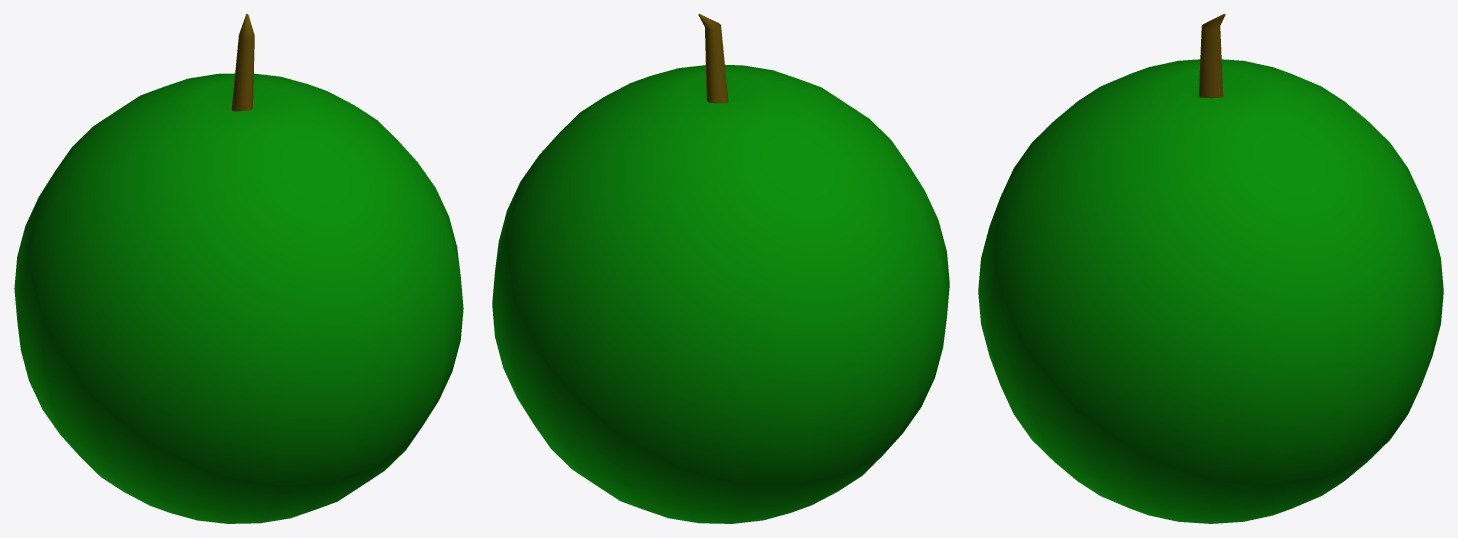
The model's file is Applemodel.fbx.
3 renders of one model, left to right at view 1: azimuth 30°, elevation 25°; view 2: azimuth 150°, elevation 25°; view 3: azimuth 270°, elevation 25°, orthographic. The views are drawn at different scales.
Visible parts, largest first — view 1: pSphere1, pCylinder1; view 2: pSphere1, pCylinder1; view 3: pSphere1, pCylinder1.
Boxes of the visible parts, x1=… form: pSphere1: x1=14, y1=73, x2=463, y2=523; pCylinder1: x1=231, y1=14, x2=254, y2=111; pSphere1: x1=492, y1=65, x2=949, y2=523; pCylinder1: x1=698, y1=14, x2=728, y2=103; pSphere1: x1=978, y1=59, x2=1443, y2=523; pCylinder1: x1=1198, y1=14, x2=1225, y2=98.
Size of the model in its own units: 2 by 2.33 by 2.
